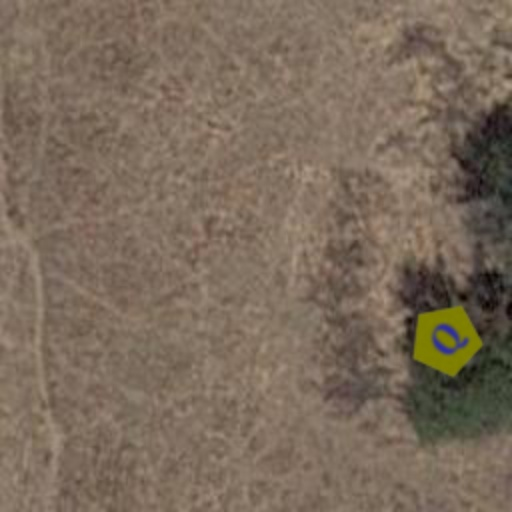pentagon: (394, 288, 498, 392)
